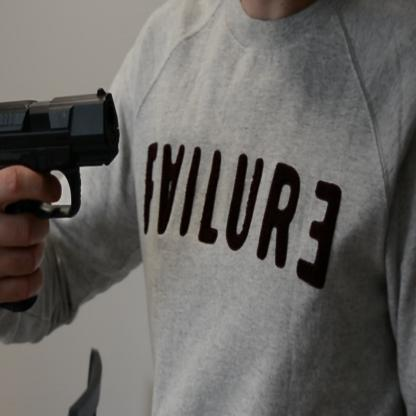gun: (0, 85, 121, 316)
